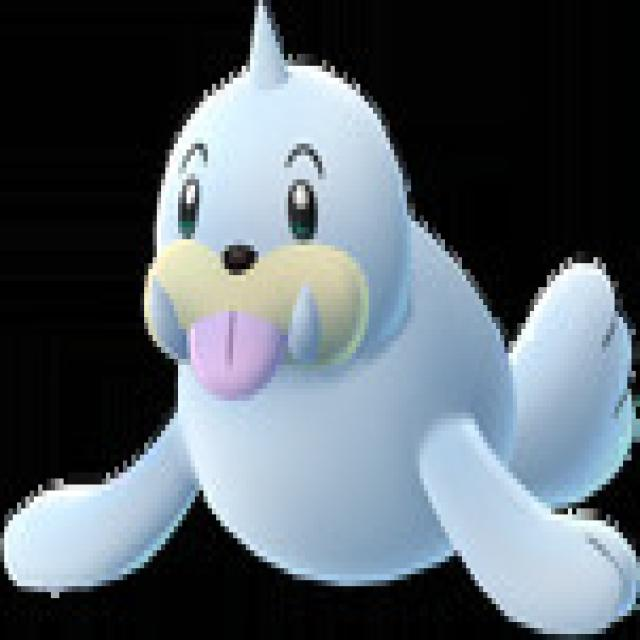Seel: (96, 0, 640, 583)
